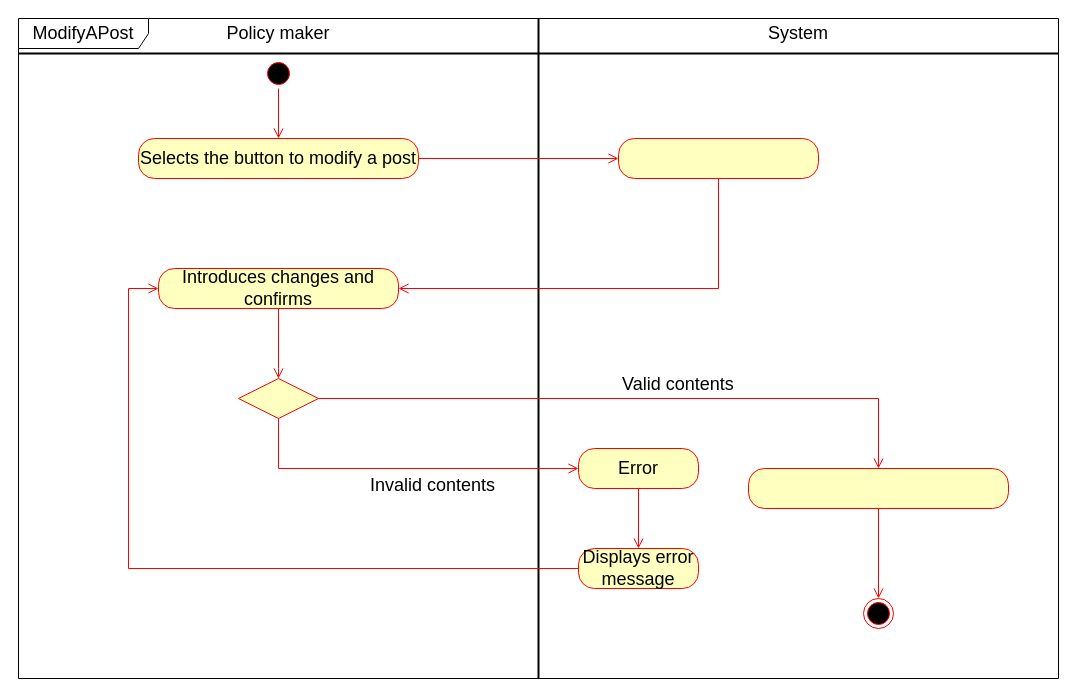
The diagram is 1076 pixels wide and 696 high, and some of its shapes have lost their labels. Here are the shapes that lost their labels. From the top down, the centre of each, then its label:
At (718,158): "Displays edit page".
At (878,488): "The changes are introduced in the post".
